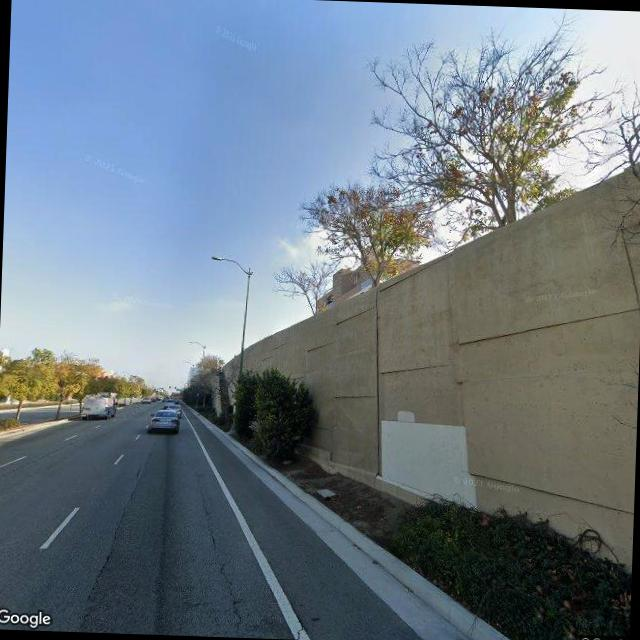crack: (189, 478, 251, 634)
